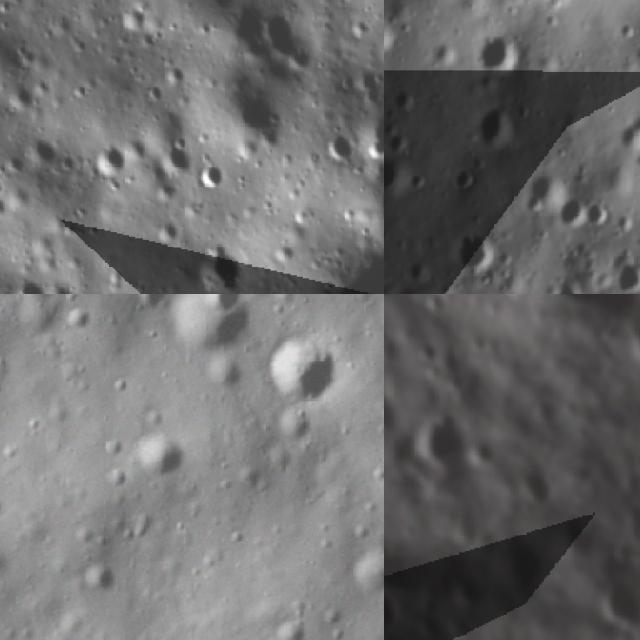crater: (261, 333, 344, 412), (165, 294, 262, 361), (255, 1, 322, 85), (188, 237, 252, 294), (128, 429, 189, 486), (475, 94, 533, 150), (473, 22, 529, 80), (526, 160, 578, 218), (452, 225, 501, 282), (592, 579, 640, 633), (346, 540, 384, 605), (262, 413, 320, 452), (556, 186, 600, 233), (427, 416, 467, 467), (75, 561, 118, 608), (515, 462, 554, 509), (384, 146, 418, 198), (89, 138, 131, 180), (359, 99, 384, 168), (318, 124, 357, 168), (157, 138, 197, 180), (1, 79, 42, 118), (441, 576, 485, 610), (609, 246, 640, 294), (613, 103, 640, 158), (24, 131, 61, 170), (193, 160, 228, 194), (450, 160, 486, 192), (265, 611, 303, 640), (59, 304, 93, 336), (548, 270, 589, 294), (532, 392, 558, 428), (118, 5, 146, 38), (608, 532, 636, 564), (37, 276, 86, 294), (10, 272, 50, 294), (199, 294, 254, 310), (432, 40, 461, 70), (393, 82, 420, 114), (153, 214, 182, 243), (410, 251, 437, 282), (137, 294, 168, 321), (163, 59, 187, 93), (384, 14, 401, 58), (384, 576, 396, 636), (618, 17, 640, 44), (423, 360, 446, 382), (411, 464, 433, 487), (416, 339, 442, 358), (470, 334, 491, 356), (473, 442, 494, 464), (427, 294, 449, 311), (402, 517, 419, 539), (631, 327, 640, 365), (0, 190, 9, 223), (0, 173, 8, 200)
